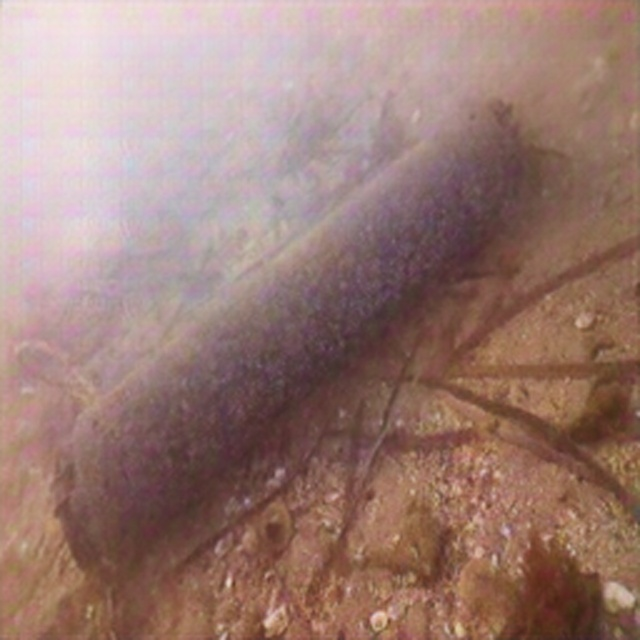mine: (49, 97, 522, 576)
